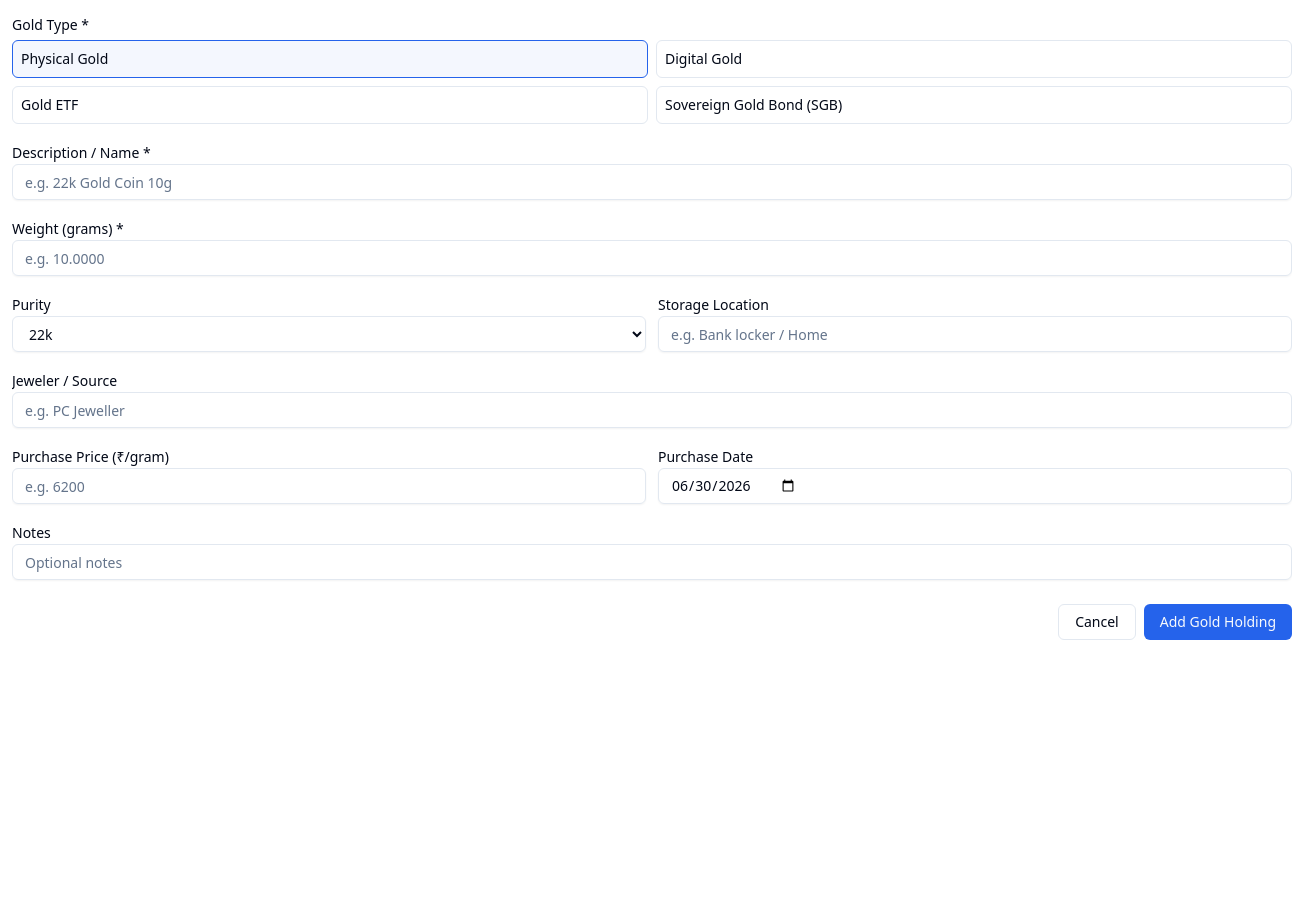
Scenario: GoldForm › selecting digital gold shows platform dropdown
Step 1. Click the radio button showing "digital" → (704, 58), box [656, 40, 1292, 78]
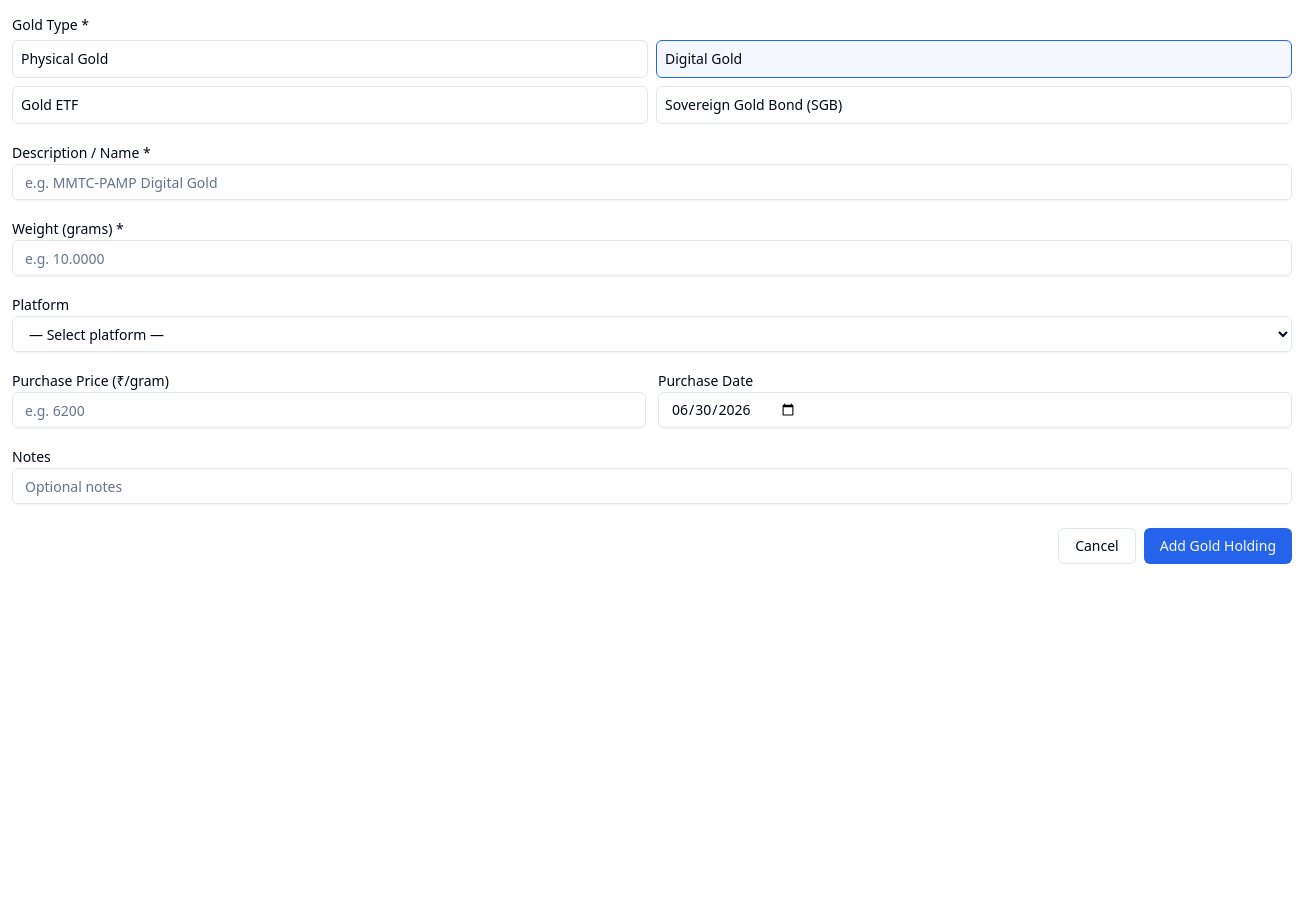
Expected: the dropdown labelled "Platform" is shown, [12, 316, 1292, 352]
